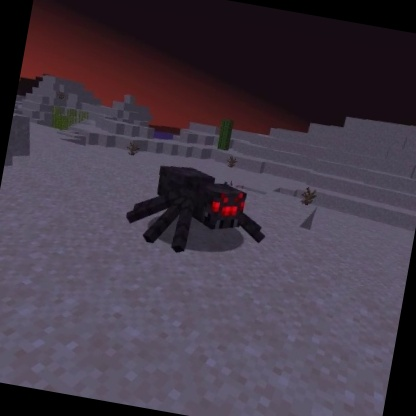spider: (118, 154, 278, 271)
